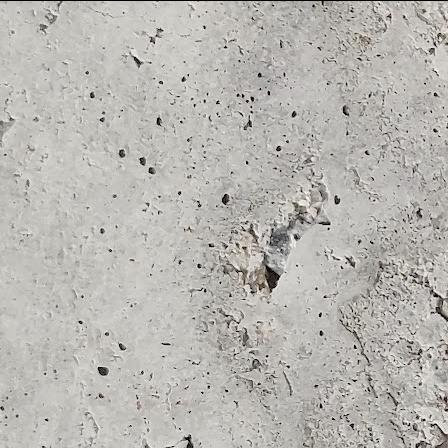crack: (323, 305, 403, 414), (365, 252, 448, 326)
spalling: (209, 150, 355, 308)
